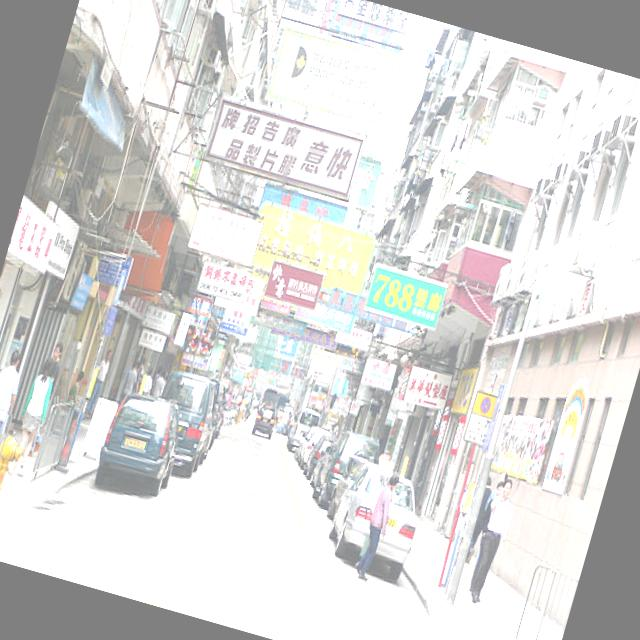Vehicle: (320, 458, 430, 584), (87, 384, 194, 504), (140, 365, 227, 485), (304, 422, 384, 512), (200, 382, 232, 449), (283, 405, 322, 457), (294, 422, 329, 473), (300, 430, 334, 482), (252, 404, 278, 439), (284, 418, 295, 436)
